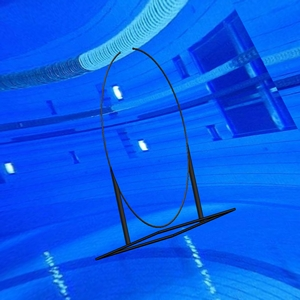circle: (95, 47, 238, 261)
